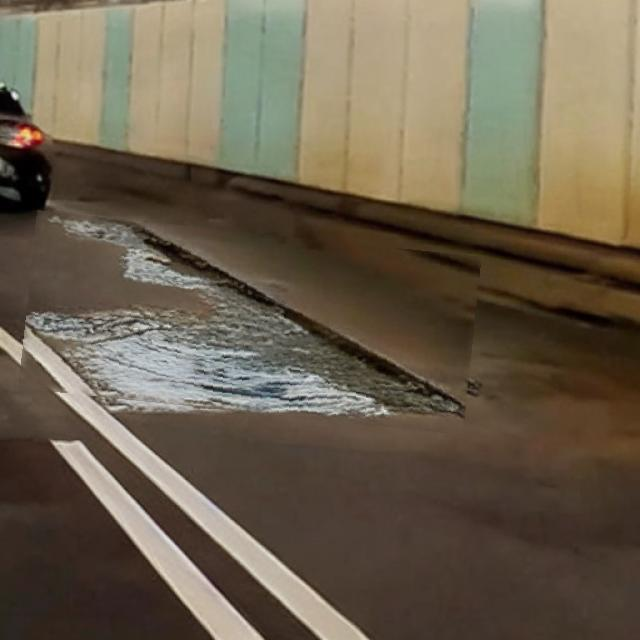puddle: (24, 223, 479, 424)
